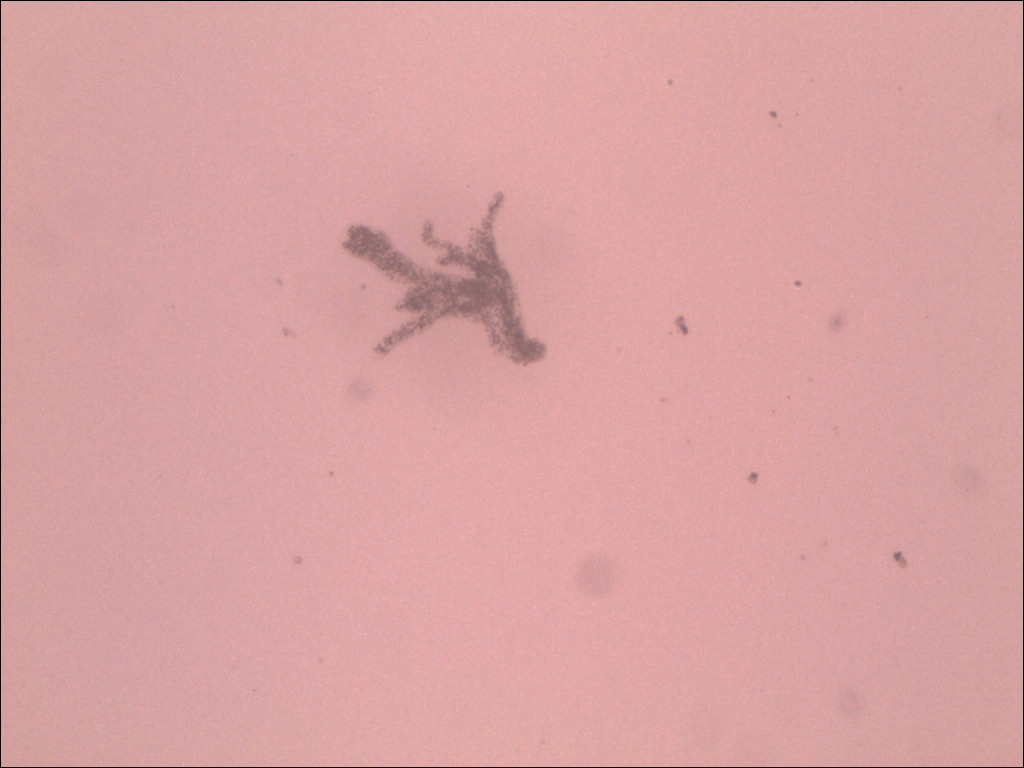amoeba: (335, 184, 558, 370)
